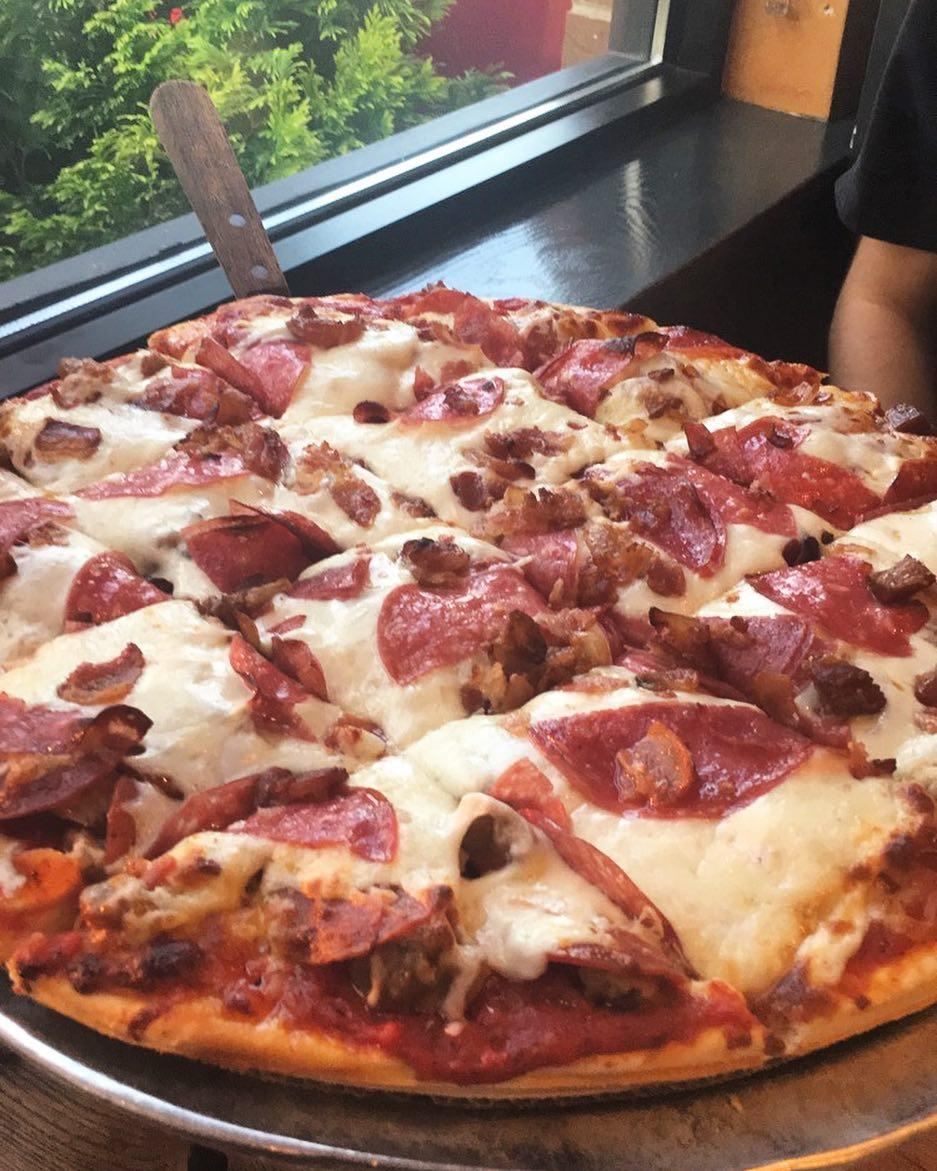Pepperoni: (535, 697, 823, 822), (483, 765, 676, 942), (687, 415, 937, 534), (171, 767, 398, 863), (589, 593, 804, 688), (179, 491, 359, 600), (0, 703, 139, 834), (747, 549, 923, 650), (369, 567, 548, 662), (595, 457, 718, 566), (663, 435, 790, 535), (213, 619, 330, 719), (287, 887, 434, 966), (145, 339, 296, 415), (483, 503, 590, 603), (55, 547, 174, 615), (95, 443, 248, 494), (531, 331, 638, 403), (52, 638, 151, 710), (187, 419, 283, 486), (272, 298, 377, 352), (407, 371, 499, 430), (0, 483, 64, 546)
Pizza: (0, 293, 937, 1106)
